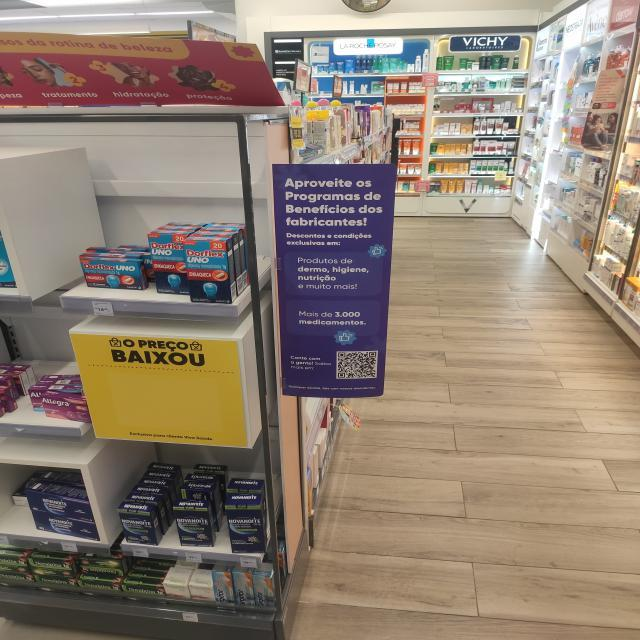qrcode: (339, 353, 377, 379)
